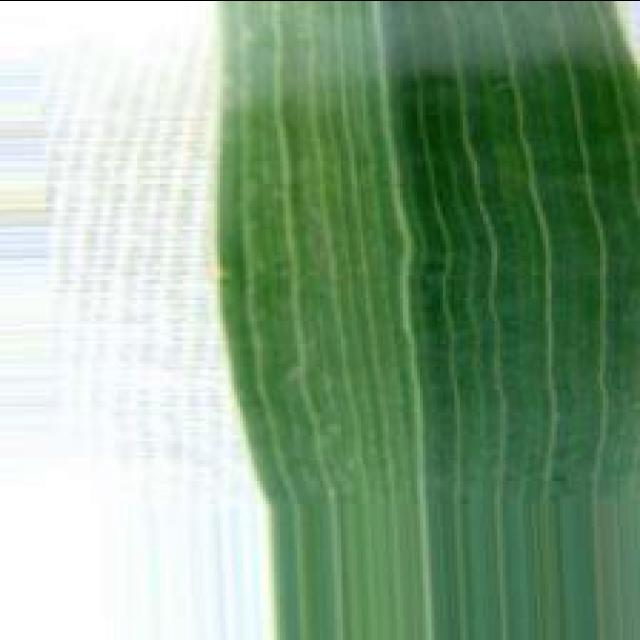Healthy: (209, 0, 640, 640)
